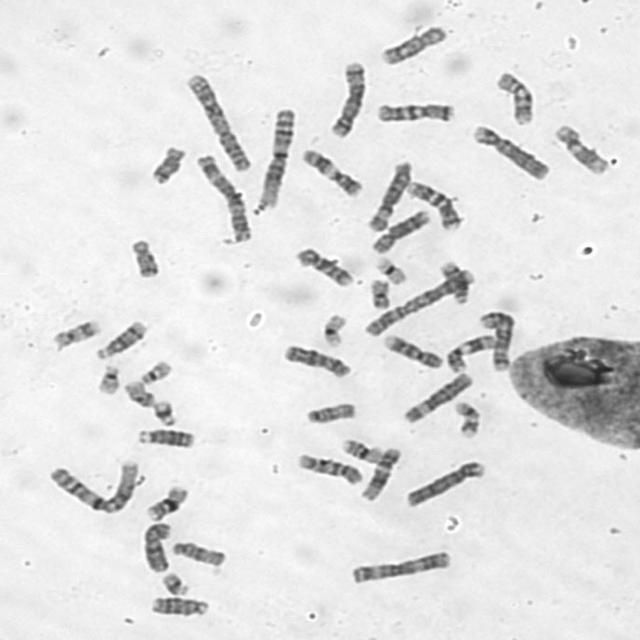A1: (46, 456, 141, 515), (248, 104, 297, 216)
A2: (360, 264, 476, 338), (182, 70, 254, 173)
A3: (192, 150, 253, 245), (346, 546, 455, 586)
B4: (469, 120, 552, 182), (400, 457, 488, 510)
B5: (326, 58, 368, 139), (475, 308, 517, 373)
C10: (292, 243, 356, 289), (294, 450, 365, 487)
C11: (298, 145, 364, 199), (442, 331, 498, 374)
C12: (552, 120, 609, 177), (357, 444, 403, 502)
C6: (400, 370, 474, 424), (363, 158, 415, 234)
C7: (403, 177, 464, 232), (373, 98, 456, 125)
C8: (376, 21, 450, 67), (369, 206, 433, 255)
C9: (380, 332, 444, 370), (493, 70, 535, 126)
D13: (148, 593, 210, 618), (135, 425, 197, 450)
D14: (93, 317, 150, 361), (436, 258, 472, 306)
D15: (169, 538, 228, 567), (302, 399, 358, 426)
E16: (142, 483, 190, 522), (340, 435, 384, 463)
E17: (48, 316, 103, 350), (452, 398, 482, 440)
E18: (146, 143, 188, 185), (127, 234, 162, 280)
F19: (372, 253, 408, 286), (318, 310, 349, 348)
F20: (122, 377, 157, 409), (367, 276, 392, 310)
G21: (158, 570, 191, 596), (150, 398, 178, 427)
G22: (93, 361, 123, 397), (138, 357, 174, 385)
X: (280, 341, 353, 379), (138, 518, 174, 574)
